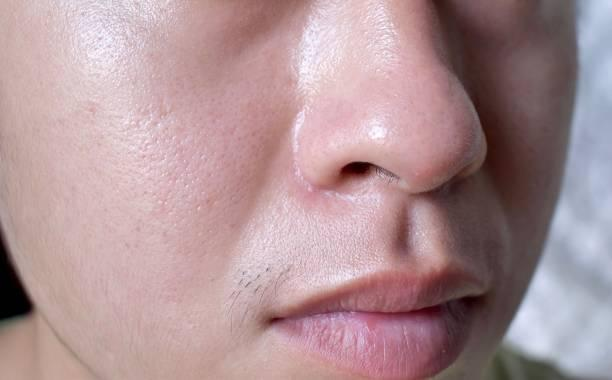Dry-Skin: (64, 172, 321, 324), (333, 52, 546, 157), (46, 29, 231, 144), (410, 186, 552, 314), (157, 216, 339, 264)
